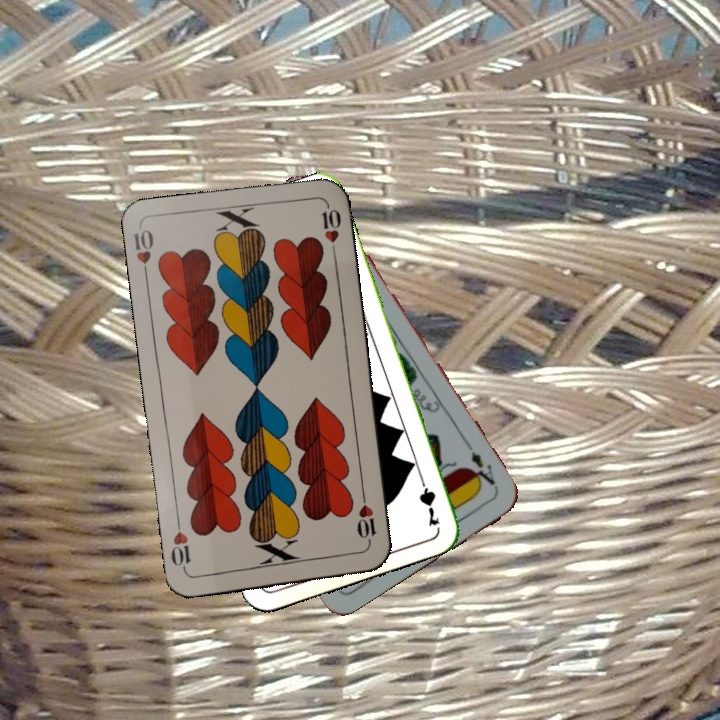EA: (462, 438, 498, 491)
G7: (414, 470, 443, 529)
H10: (130, 225, 157, 284), (353, 489, 379, 549)
